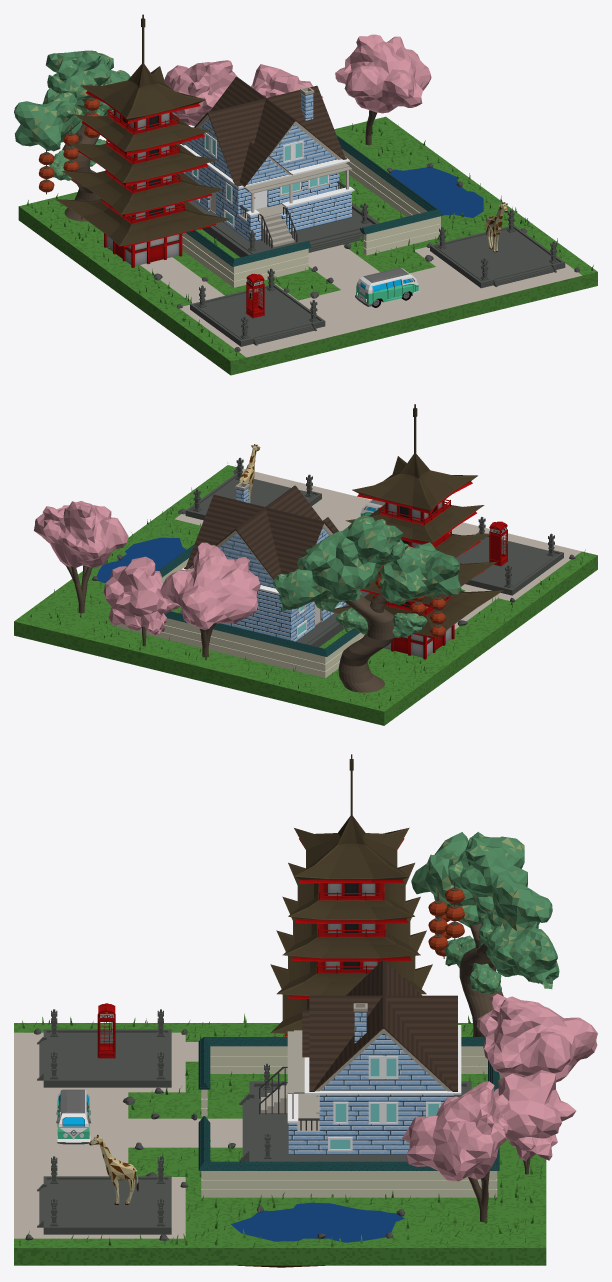
The picture shows the model from 3 angles, top to bottom: view 1: azimuth 30°, elevation 25°; view 2: azimuth 150°, elevation 25°; view 3: azimuth 270°, elevation 25°; orthographic projection. The views are drawn at different scales.
Visible parts, largest first — view 1: Cube.005, Cube.547, VEHICLES_VAN, OBJRANDOM_PHONEBOOTH, ANIMAL_JIRAFA; view 2: Cube.005, Cube.547, OBJRANDOM_PHONEBOOTH, ANIMAL_JIRAFA; view 3: Cube.005, Cube.547, VEHICLES_VAN, ANIMAL_JIRAFA, OBJRANDOM_PHONEBOOTH.
Part boxes in pixels (x1,y1,x2,y2): Cube.005: (14, 14, 597, 375); Cube.547: (179, 76, 354, 248); VEHICLES_VAN: (355, 267, 419, 307); OBJRANDOM_PHONEBOOTH: (246, 273, 264, 318); ANIMAL_JIRAFA: (486, 202, 507, 252); Cube.005: (14, 404, 597, 725); Cube.547: (181, 482, 346, 641); OBJRANDOM_PHONEBOOTH: (489, 521, 508, 566); ANIMAL_JIRAFA: (238, 444, 260, 503); Cube.005: (14, 754, 597, 1265); Cube.547: (259, 960, 461, 1154); VEHICLES_VAN: (56, 1089, 90, 1144); ANIMAL_JIRAFA: (89, 1134, 138, 1204); OBJRANDOM_PHONEBOOTH: (97, 1003, 115, 1058).
Bounding box in the file's own units: 4528 × 2756 × 4389.
52 materials, 6 textured.
